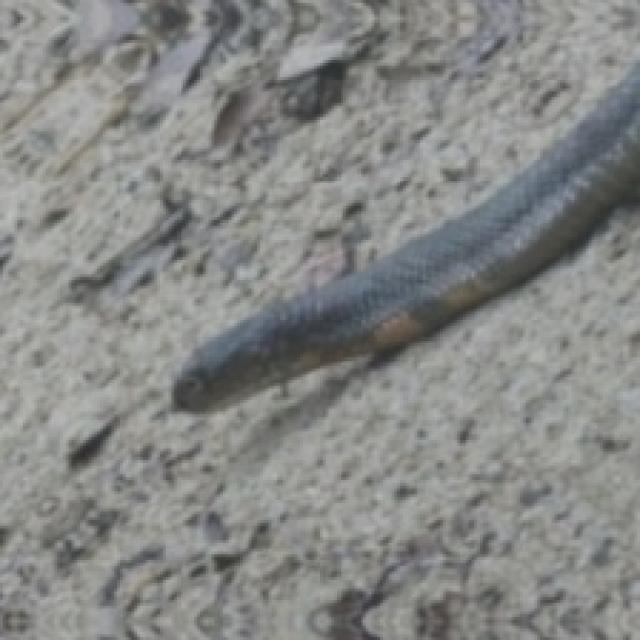king cobra: (174, 63, 637, 406), (277, 3, 369, 114)
